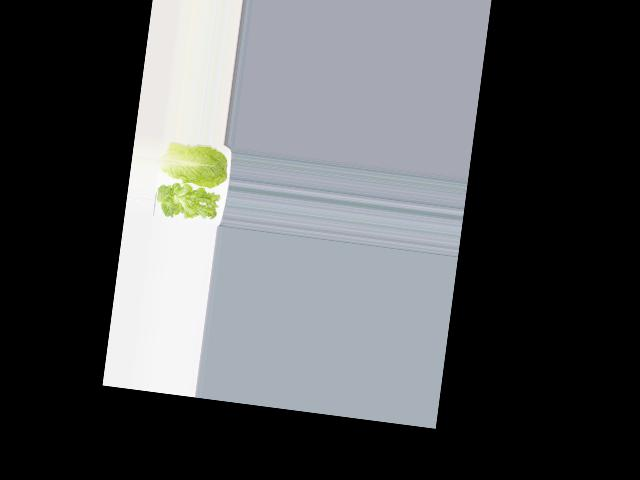lettuce: (156, 182, 221, 227)
